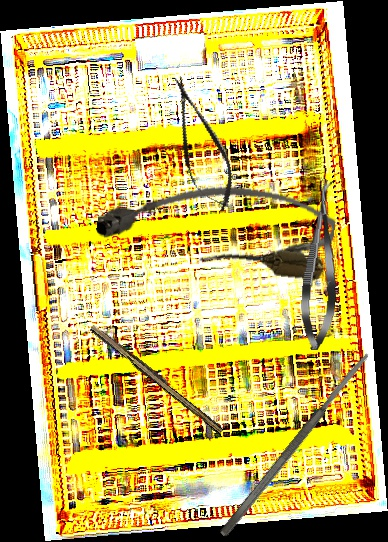Cannula: (93, 167, 339, 284)
Micro Scissor: (156, 70, 245, 218), (298, 179, 344, 351)
Scalpel Handle: (87, 321, 228, 436)
Spatula Surgical: (217, 349, 374, 539)
